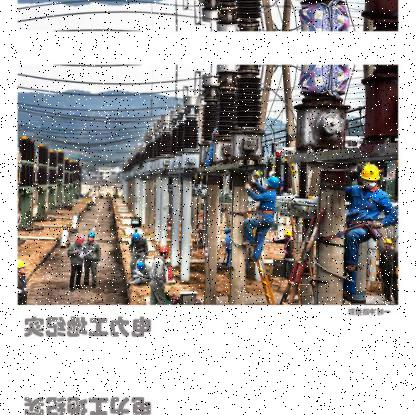helmet: (359, 160, 383, 192), (157, 240, 176, 260), (266, 171, 282, 193), (18, 255, 34, 277), (134, 257, 148, 271), (130, 229, 144, 243), (75, 233, 86, 247), (284, 229, 295, 242), (89, 228, 99, 242)
